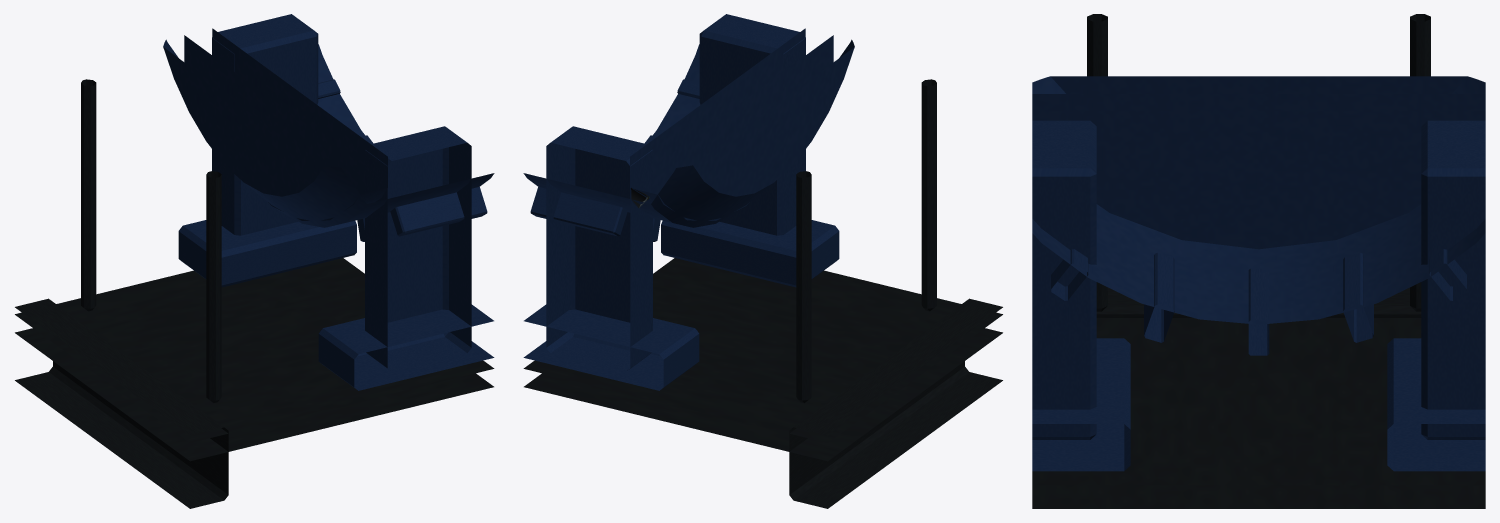
Rendered from cell_9.obj.
The picture shows the model from 3 angles, left to right: view 1: azimuth 30°, elevation 25°; view 2: azimuth 150°, elevation 25°; view 3: azimuth 270°, elevation 25°; orthographic projection. The views are drawn at different scales.
Parts seen in each view (by area): view 1: cell_9; view 2: cell_9; view 3: cell_9.
Part boxes in pixels (x1,y1,x2,y2): cell_9: (15, 14, 494, 508); cell_9: (523, 14, 1002, 508); cell_9: (1032, 14, 1485, 508).
Size of the model in its own units: 1 by 0.954 by 1.
